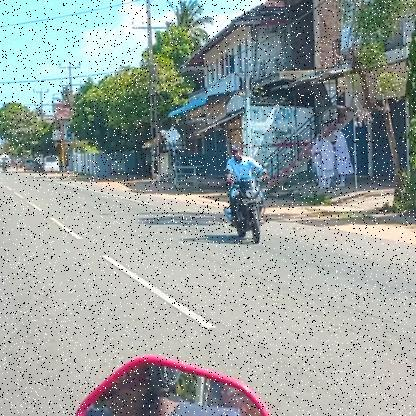motorcycle: (223, 176, 272, 246)
